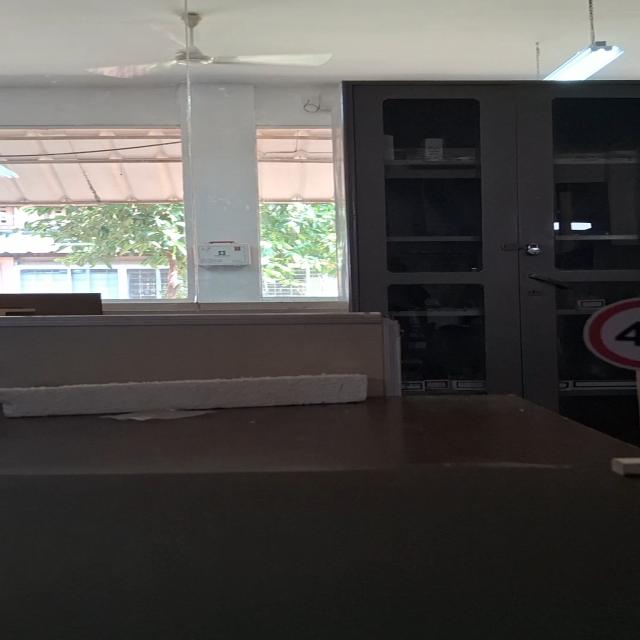Speed40: (580, 293, 640, 371)
